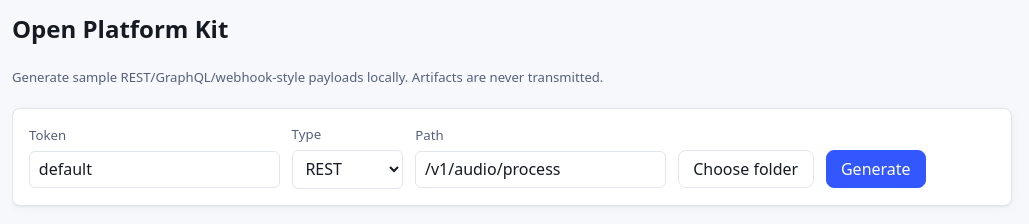
Test: IntegrationPanel component › hides both Path and Event fields when type is graphql
The image size is (1029, 224).
Select "GraphQL" in the dropdown at (347, 169), box [292,150,403,189]
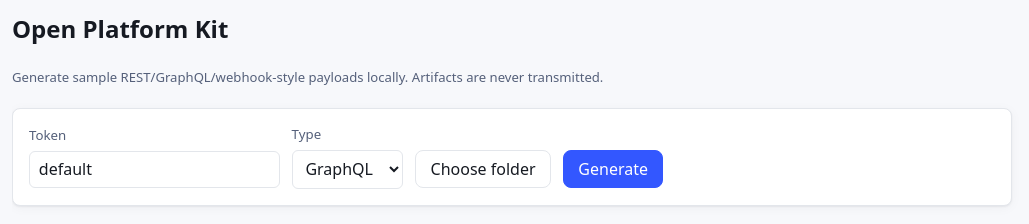
Expected: the text "Path" is gone
